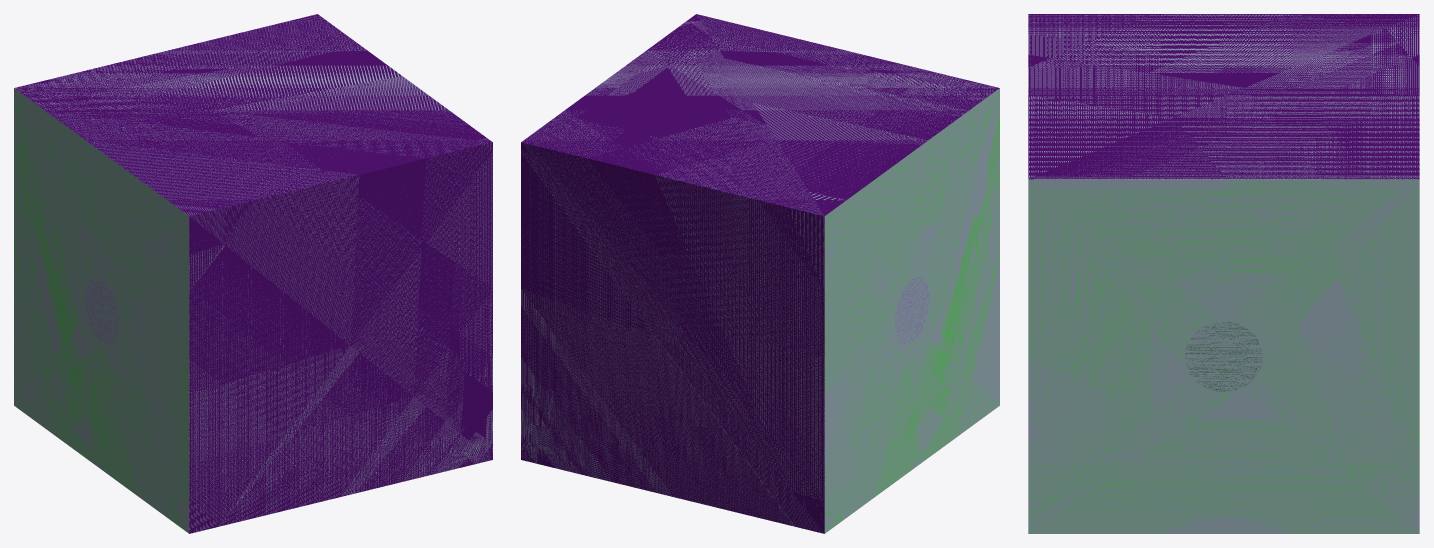
Rendered from SimpleMagneticConductionHoop.obj.
3 views of the same model, side by side, from view 1: azimuth 30°, elevation 25°; view 2: azimuth 150°, elevation 25°; view 3: azimuth 270°, elevation 25° (orthographic). The views are drawn at different scales.
Parts seen in each view (by area): view 1: Mesh1 Model; view 2: Mesh1 Model; view 3: Mesh1 Model.
Part boxes in pixels (x1,y1,x2,y2): Mesh1 Model: [14, 14, 492, 533]; Mesh1 Model: [521, 14, 999, 533]; Mesh1 Model: [1028, 14, 1419, 533].
Size of the model in its own units: 100 by 100 by 100.
